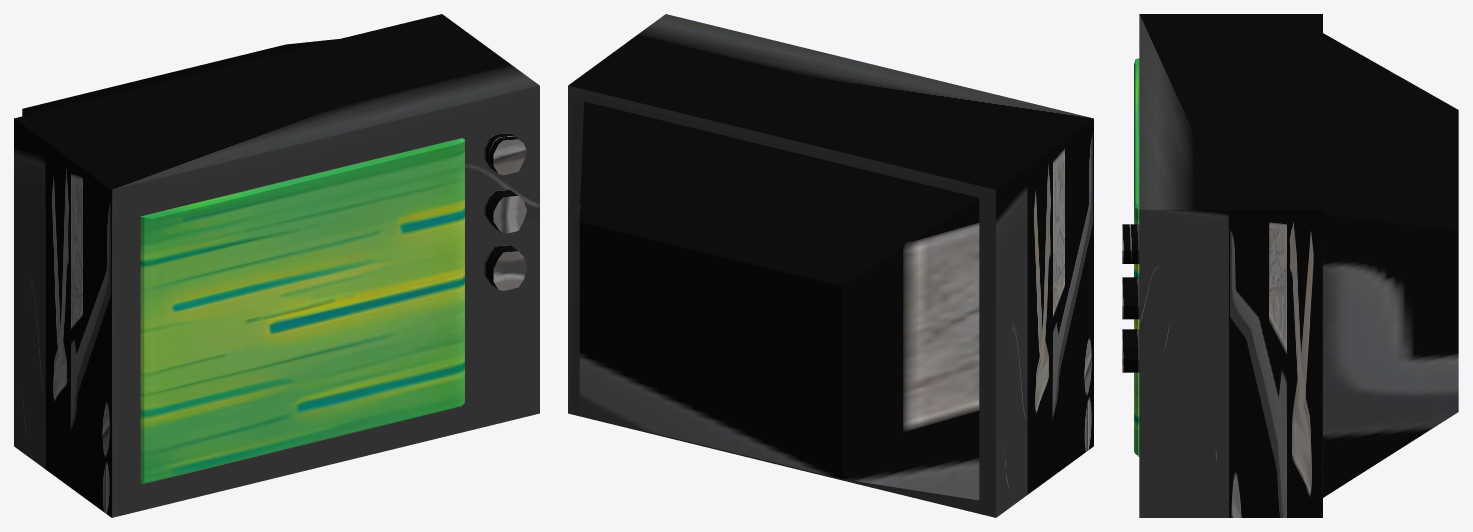
The picture shows the model from 3 angles, left to right: view 1: azimuth 30°, elevation 25°; view 2: azimuth 150°, elevation 25°; view 3: azimuth 270°, elevation 25°; orthographic projection. The views are drawn at different scales.
Parts seen in each view (by area): view 1: TV2; view 2: TV2; view 3: TV2.
Part boxes in pixels (x1,y1,x2,y2): TV2: (14,14,539,517); TV2: (568,14,1093,517); TV2: (1122,14,1458,517).
Bounding box in the file's own units: 104 × 76.36 × 75.63.
1 material, 1 textured.
